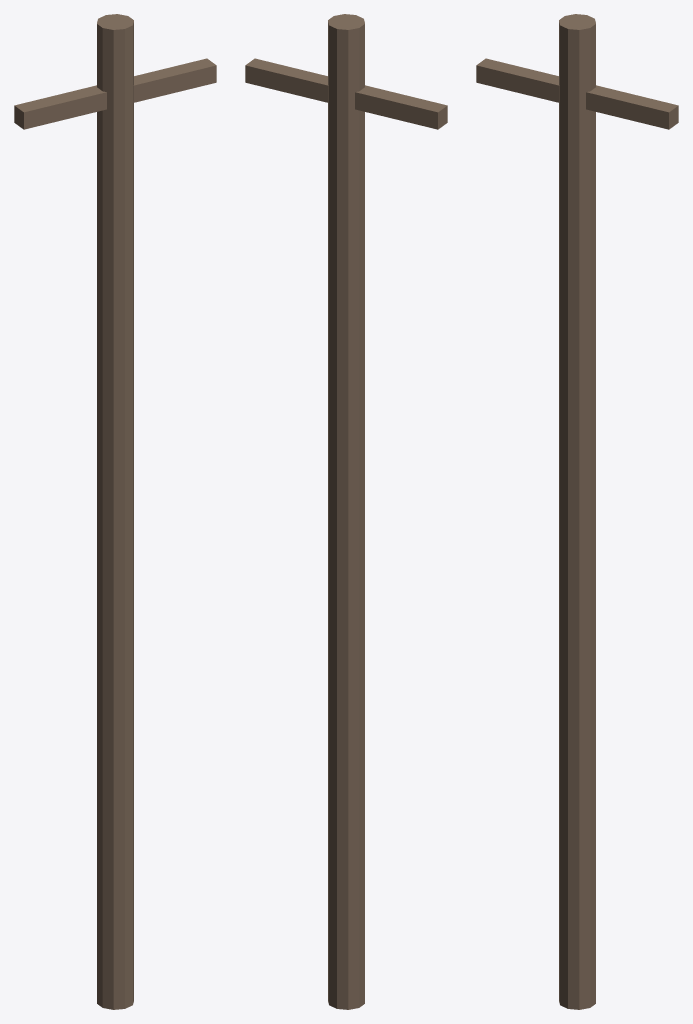
File: utility_pole.glb
The picture shows the model from 3 angles, left to right: view 1: azimuth 30°, elevation 25°; view 2: azimuth 150°, elevation 25°; view 3: azimuth 330°, elevation 25°; orthographic projection.
Visible parts, largest first — view 1: Cylinder; view 2: Cylinder; view 3: Cylinder.
Boxes of the visible parts, left/top/right/bottom form: Cylinder: left=14, top=14, right=216, bottom=1009; Cylinder: left=245, top=14, right=447, bottom=1009; Cylinder: left=476, top=14, right=678, bottom=1009.
Size of the model in its own units: 1.4 by 6.8 by 0.24.
